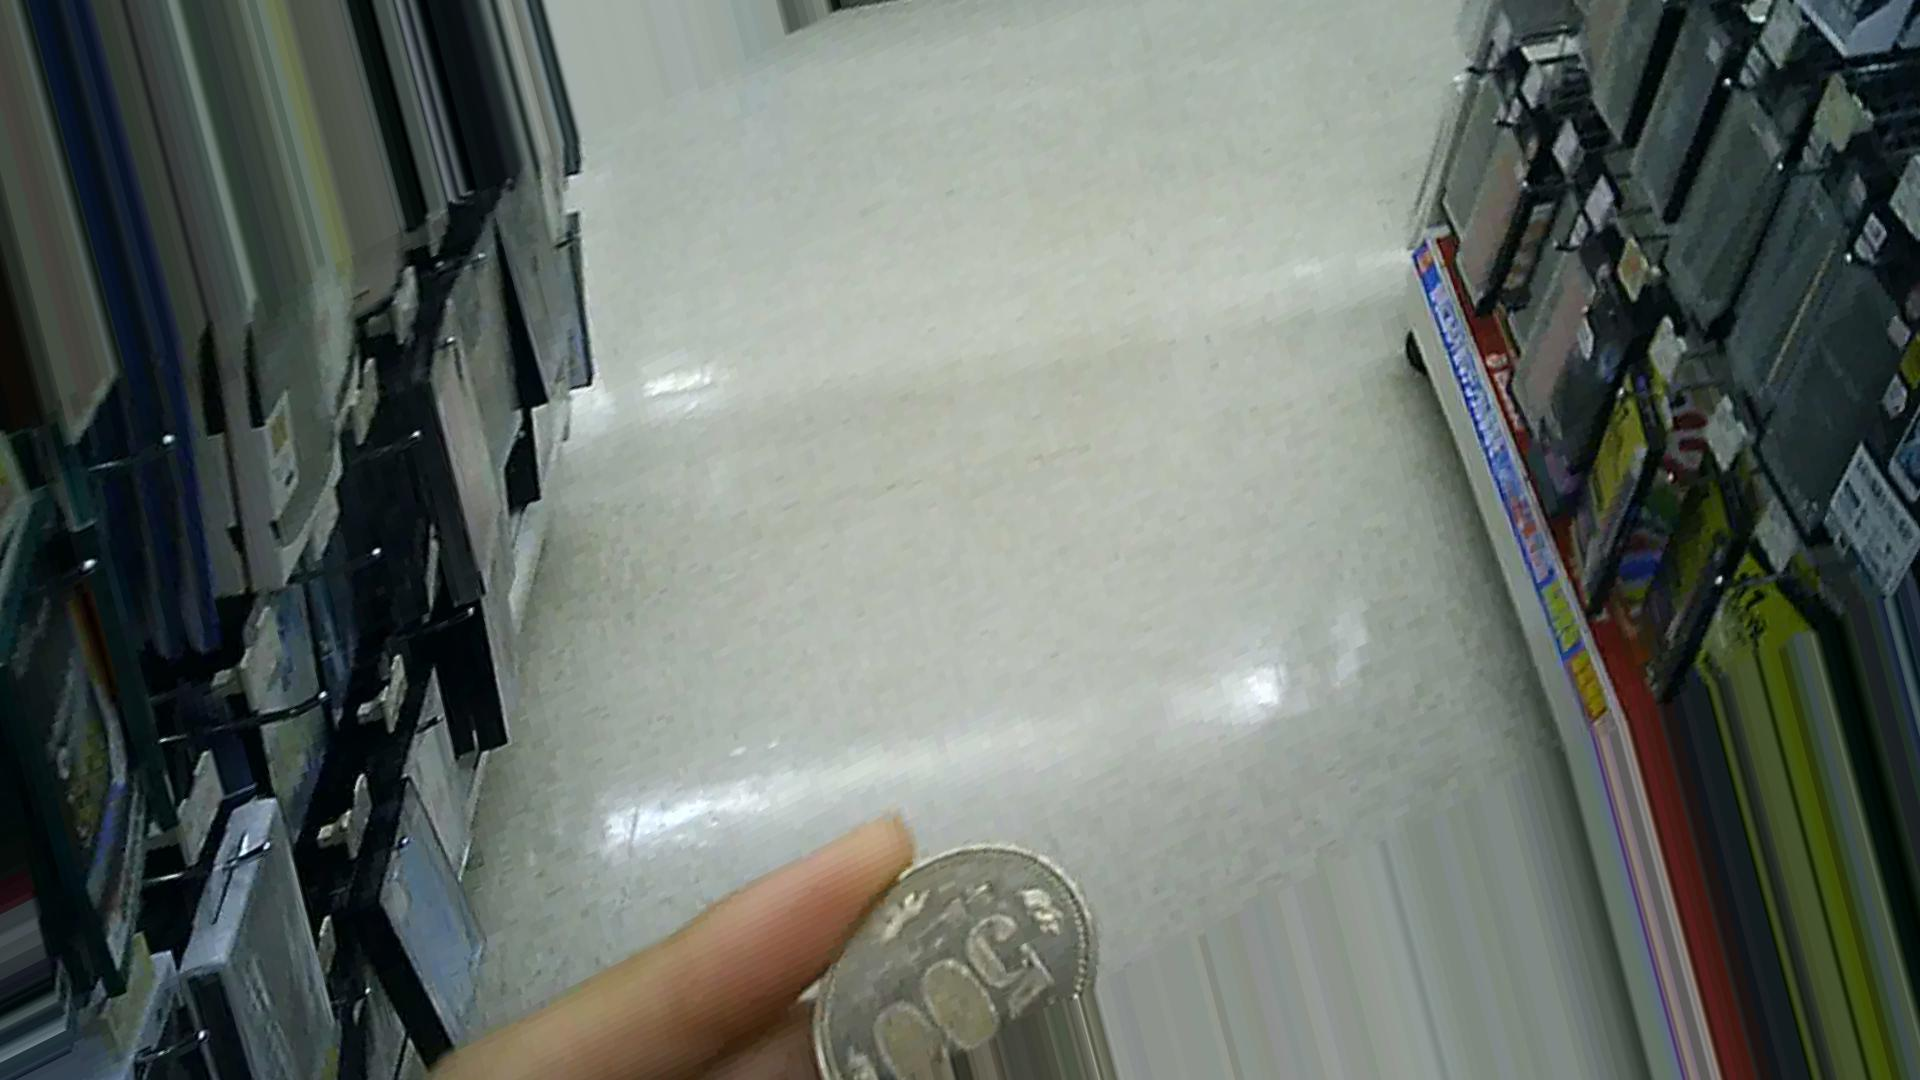500 Yen: (811, 789, 1108, 1079)
